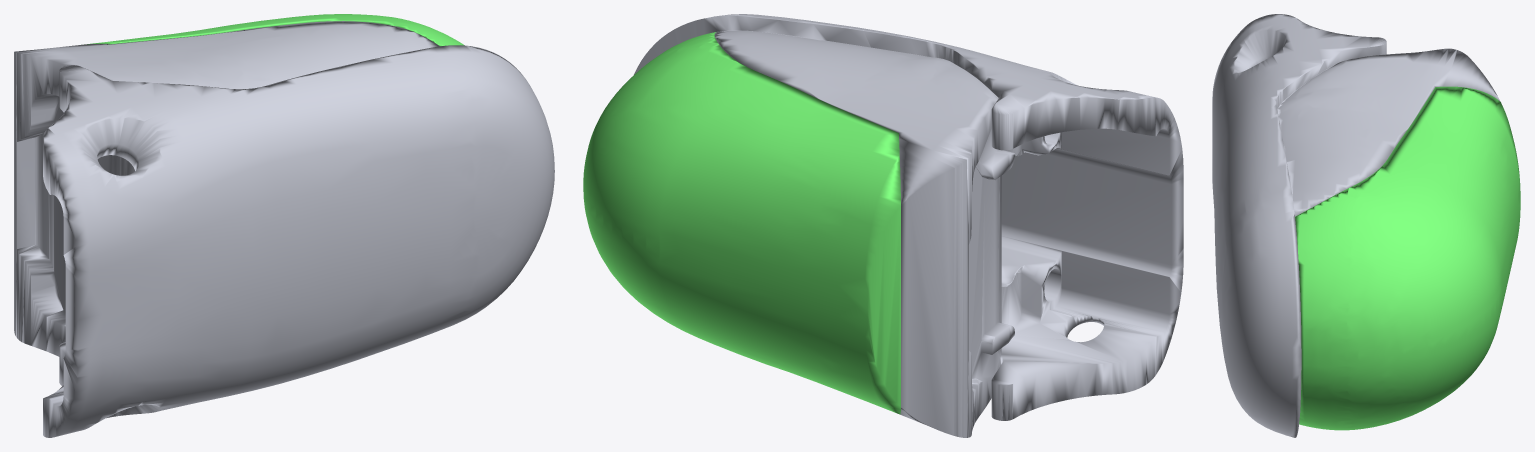
The model's file is left_ring_DP.glb.
The picture shows the model from 3 angles, left to right: view 1: azimuth 30°, elevation 25°; view 2: azimuth 150°, elevation 25°; view 3: azimuth 270°, elevation 25°; orthographic projection. The views are drawn at different scales.
Size of the model in its own units: 0.0266 by 0.0153 by 0.0158.
